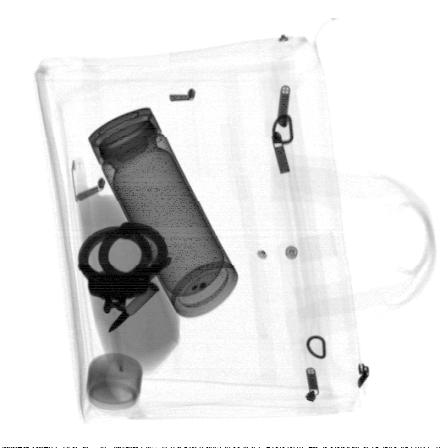Bullet: (105, 281, 161, 333)
HandCuffs: (76, 221, 170, 317)
